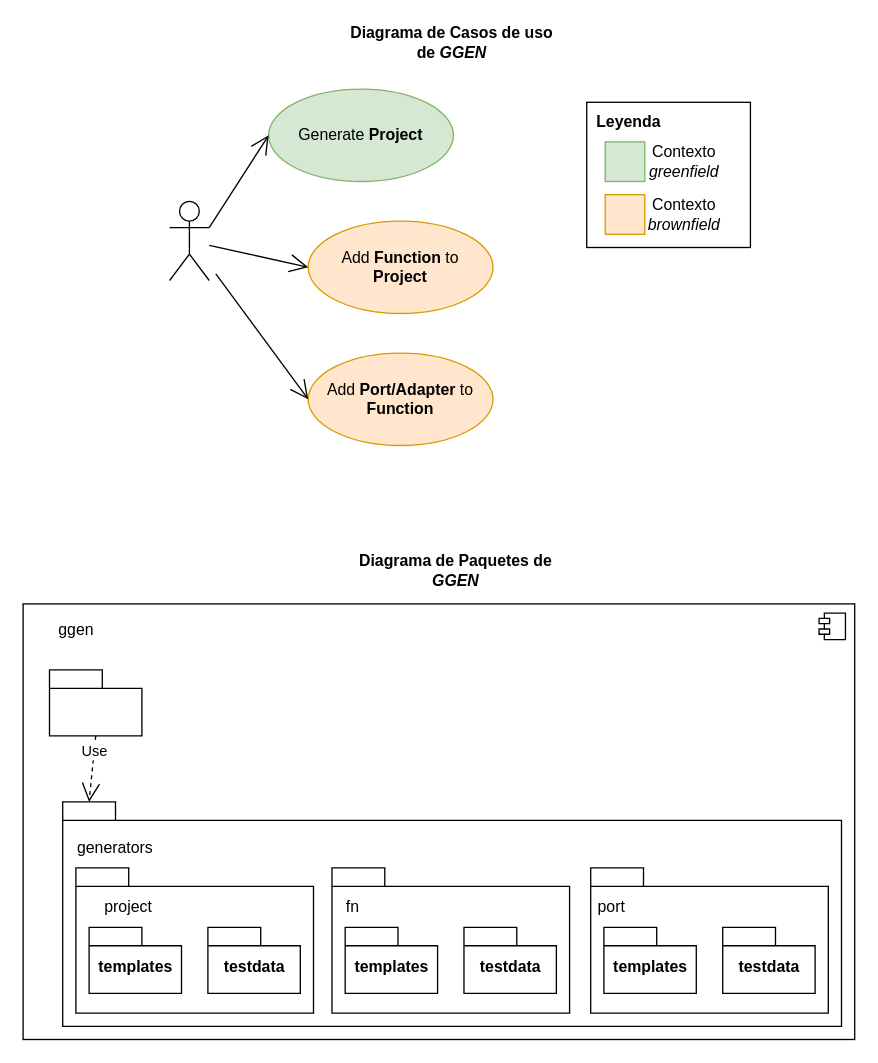
Image size: 878x1063. Some labels were removed from this diagram. Each missing label, with the box of its shape:
cmd: (48, 669, 142, 736)
Developer: (168, 200, 209, 280)
